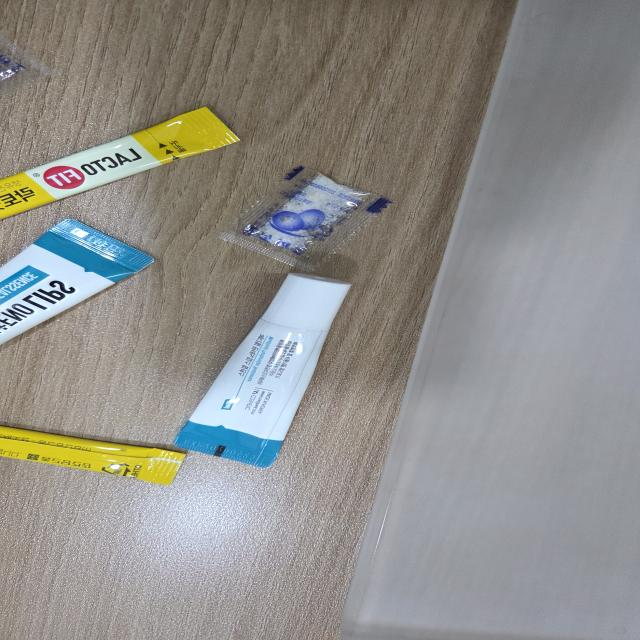lacto: (0, 103, 241, 217), (1, 426, 188, 485)
lib: (172, 272, 356, 469), (1, 220, 154, 368)
salt: (213, 164, 395, 270), (0, 35, 52, 102)
